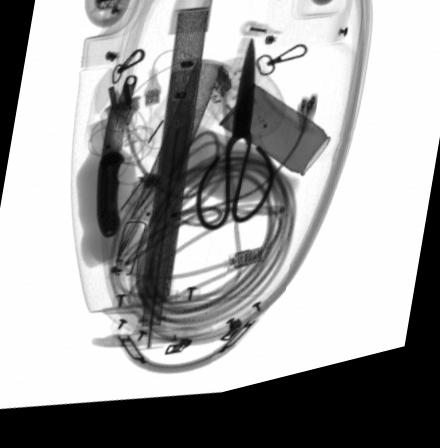Knife: (94, 86, 128, 246)
Scissors: (192, 47, 273, 242)
